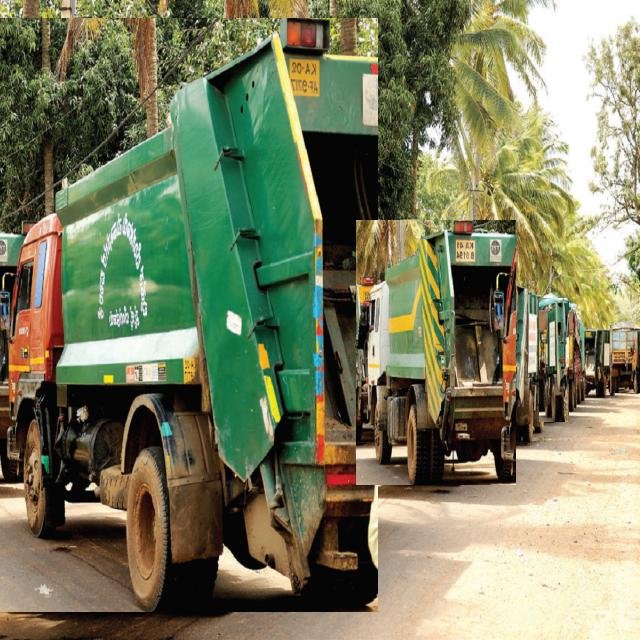truck: (0, 18, 378, 612), (357, 220, 516, 485), (500, 280, 545, 441), (540, 298, 569, 422), (610, 322, 640, 393)
